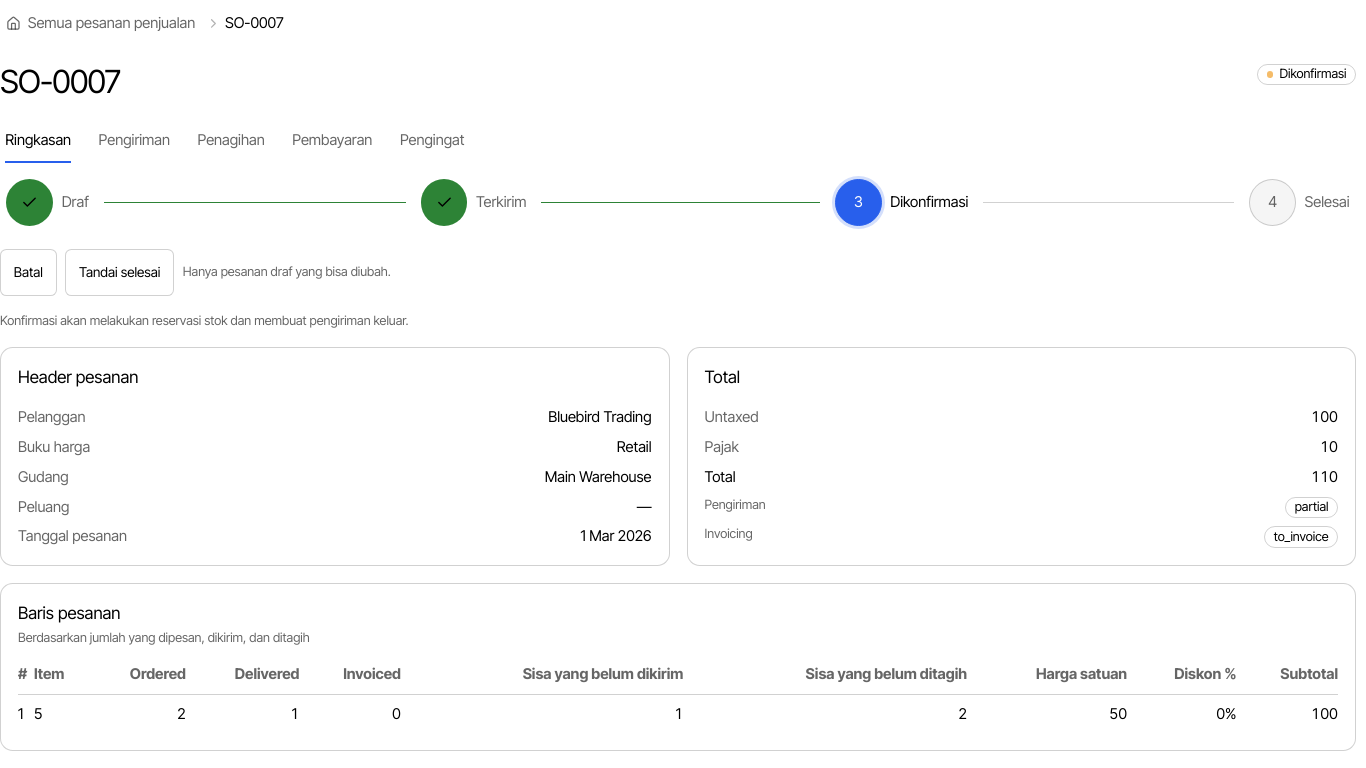
Scenario: SaleOrderDetail branches4 › cancels the payment dialog
What coordinates should you click on to do the following:
click the tab "Pembayaran"
I would click on:
 (332, 141)
Its box is [291,117,373,164].
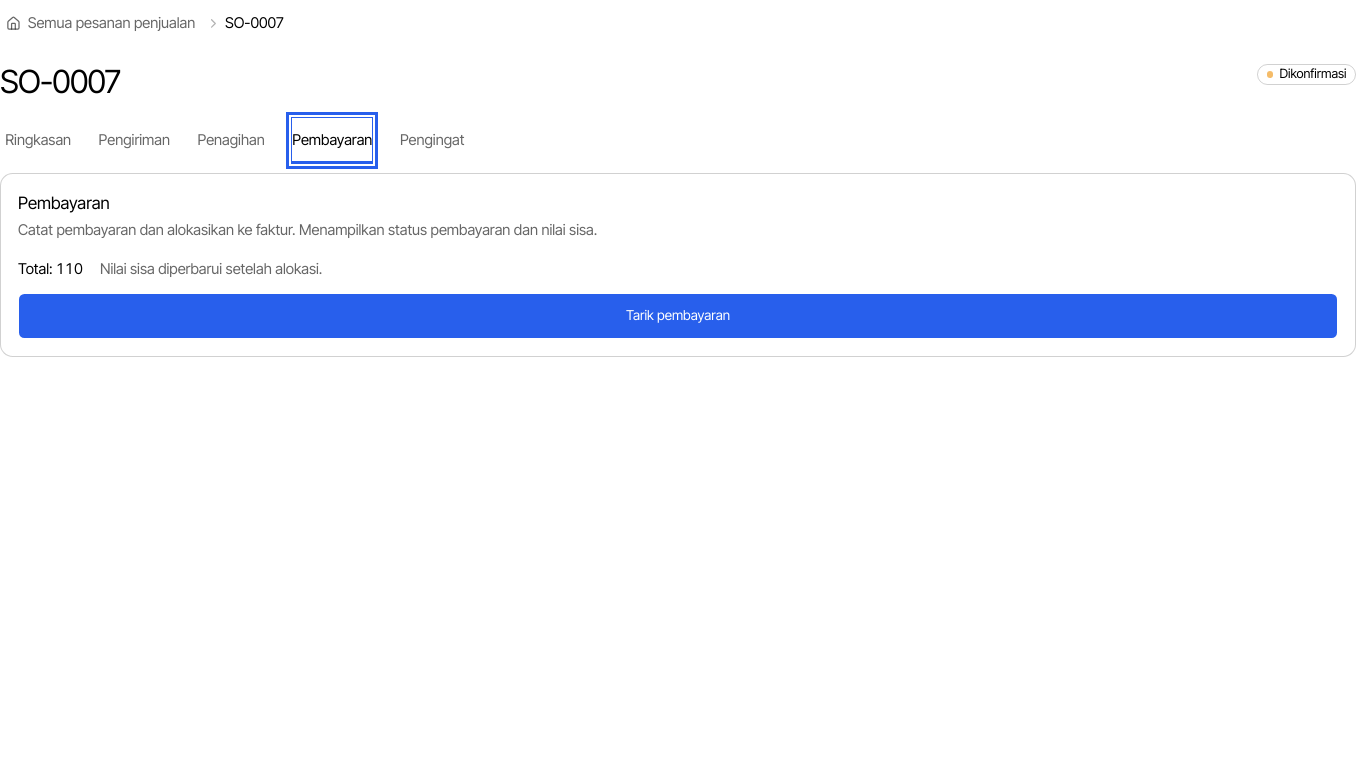
What coordinates should you click on to do the following:
click the button "Tarik pembayaran"
I would click on:
 (678, 316)
Its box is [18,293,1338,340].
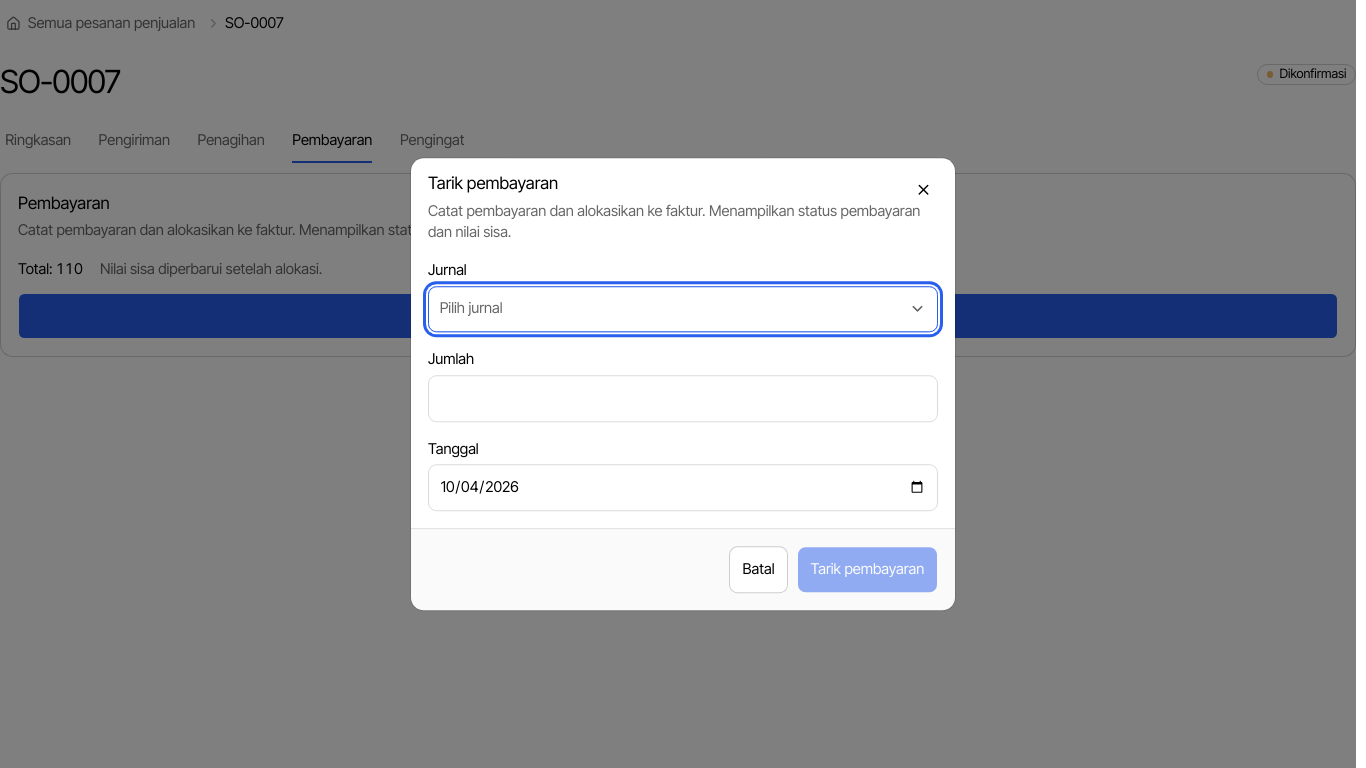
What coordinates should you click on to do the following:
click the button "Batal"
I would click on:
 (758, 569)
Its box is [729,546,788,593].
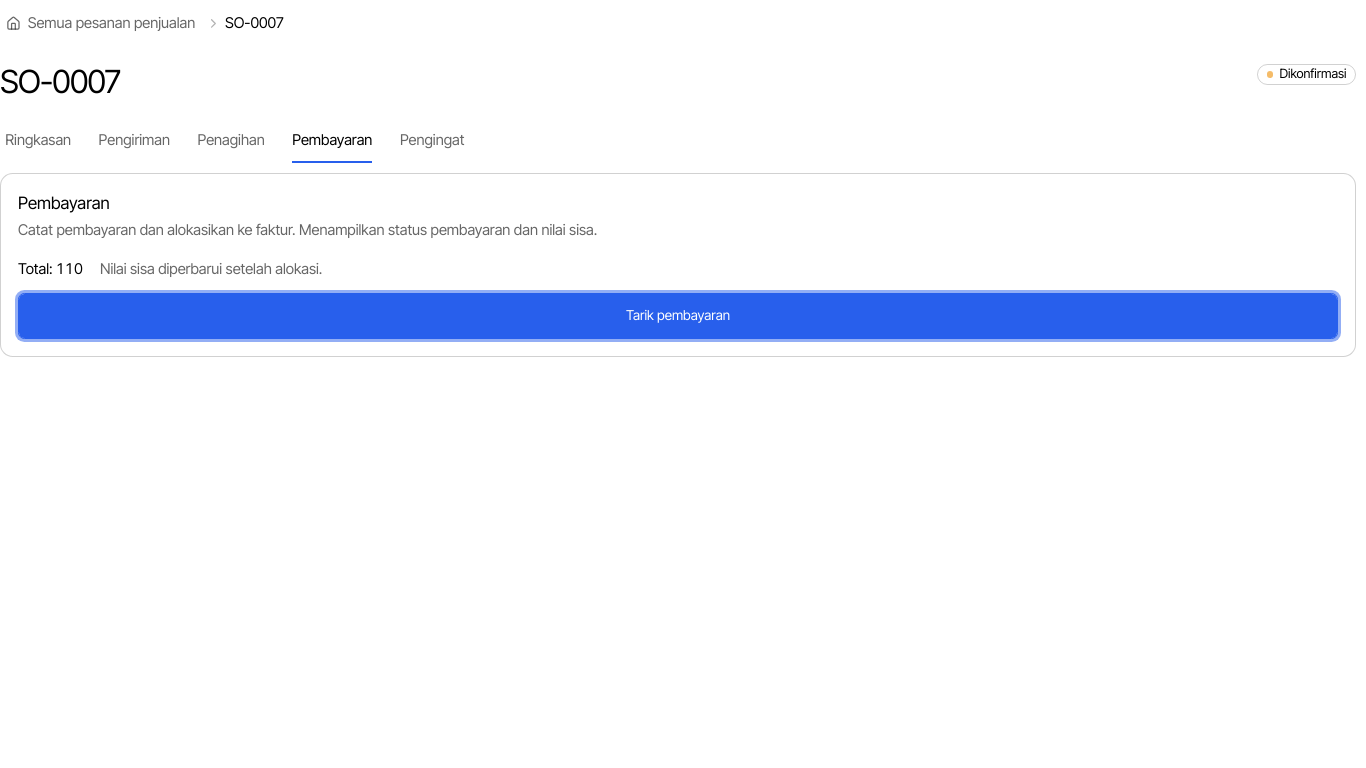
Check: the dialog is gone
